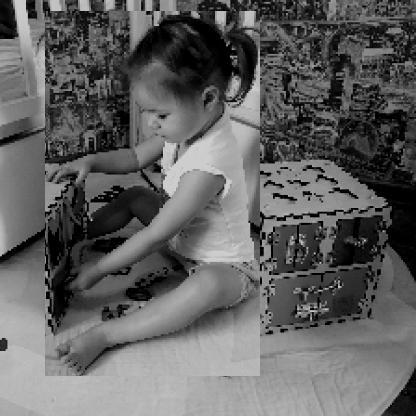child: (46, 12, 262, 378)
